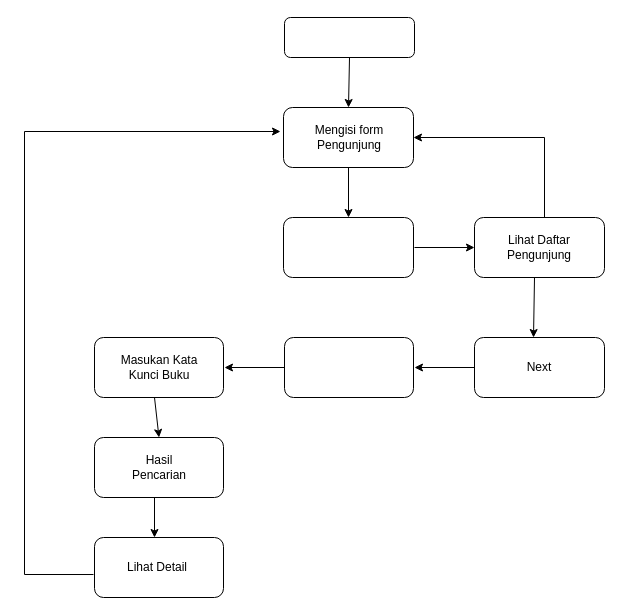
This 622x615 diagram has some shape labels left out. The box of each missing label's shape, as (x1, y1, x2, y2) in pixels:
Halaman Pencarian Buku: (284, 336, 414, 398)
Kirim: (282, 216, 414, 278)
Pengunjung: (284, 16, 414, 58)
